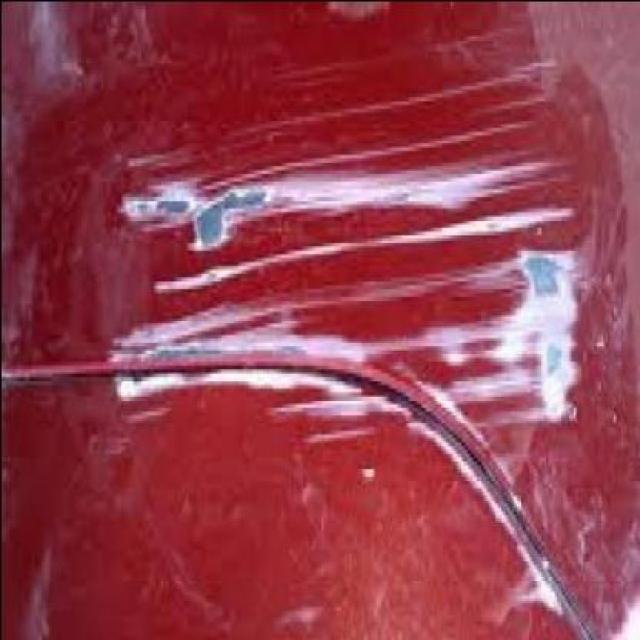damage: (108, 42, 583, 613)
